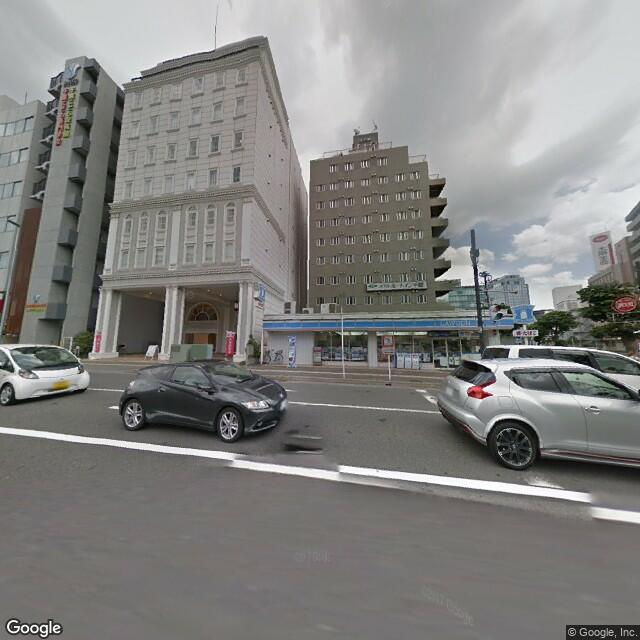lawson: (259, 312, 517, 335), (507, 300, 537, 327)
